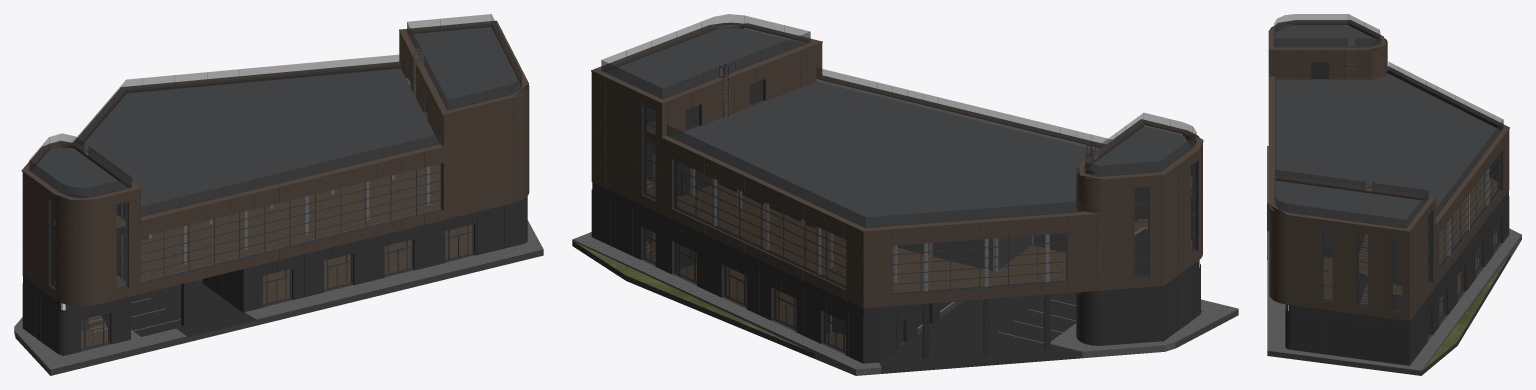
Rendered from officeBuilding.glb.
3 views of the same model, side by side, from view 1: azimuth 30°, elevation 25°; view 2: azimuth 150°, elevation 25°; view 3: azimuth 270°, elevation 25° (orthographic). The views are drawn at different scales.
Parts seen in each view (by area): view 1: object 20, object 18, object 23, object 24, object 2, object 25, object 4, object 3, object 16, Glass - Cognac, object 17, RAL 9010 _RAL 9010 _0; view 2: object 20, object 18, object 23, object 24, object 25, object 2, object 16, object 4, object 3, RAL 9010 _RAL 9010 _0, RAL 9011 _RAL 9011 _0, object 17 (+2 smaller); view 3: object 20, object 18, object 23, object 25, object 24, object 4, object 2, object 3, Glass - Cognac, object 9, RAL 9010 _RAL 9010 _0, RAL 9011 _RAL 9011 _0 (+1 smaller).
Part boxes in pixels (x1=…): object 20: x1=32, y1=27, x2=520, y2=215; object 18: x1=21, y1=20, x2=529, y2=306; object 23: x1=22, y1=23, x2=528, y2=355; object 24: x1=51, y1=163, x2=473, y2=348; object 2: x1=54, y1=164, x2=471, y2=348; object 25: x1=29, y1=14, x2=521, y2=216; object 4: x1=14, y1=220, x2=543, y2=369; object 3: x1=50, y1=163, x2=473, y2=350; object 16: x1=131, y1=280, x2=256, y2=337; Glass - Cognac: x1=15, y1=249, x2=543, y2=375; object 17: x1=61, y1=166, x2=429, y2=331; RAL 9010 _RAL 9010 _0: x1=54, y1=204, x2=179, y2=331; object 20: x1=606, y1=27, x2=1191, y2=227; object 18: x1=591, y1=22, x2=1203, y2=308; object 23: x1=591, y1=24, x2=1202, y2=363; object 24: x1=644, y1=106, x2=1195, y2=351; object 25: x1=601, y1=14, x2=1196, y2=227; object 2: x1=646, y1=122, x2=1191, y2=350; object 16: x1=879, y1=293, x2=1081, y2=368; object 4: x1=572, y1=232, x2=1238, y2=375; object 3: x1=643, y1=106, x2=1195, y2=353; RAL 9010 _RAL 9010 _0: x1=646, y1=107, x2=1147, y2=343; RAL 9011 _RAL 9011 _0: x1=572, y1=241, x2=1082, y2=373; object 17: x1=646, y1=168, x2=1199, y2=331; object 20: x1=1275, y1=25, x2=1500, y2=248; object 18: x1=1268, y1=20, x2=1509, y2=321; object 23: x1=1269, y1=22, x2=1509, y2=365; object 25: x1=1274, y1=14, x2=1503, y2=227; object 24: x1=1322, y1=153, x2=1500, y2=336; object 4: x1=1267, y1=146, x2=1521, y2=371; object 2: x1=1323, y1=175, x2=1497, y2=317; object 3: x1=1322, y1=153, x2=1500, y2=337; Glass - Cognac: x1=1267, y1=255, x2=1421, y2=375; object 9: x1=1422, y1=257, x2=1508, y2=370; RAL 9010 _RAL 9010 _0: x1=1323, y1=234, x2=1478, y2=309; RAL 9011 _RAL 9011 _0: x1=1421, y1=255, x2=1510, y2=375.
Size of the model in its own units: 53.52 by 16.75 by 25.65.
Materials: 24 (7 with a texture image).
